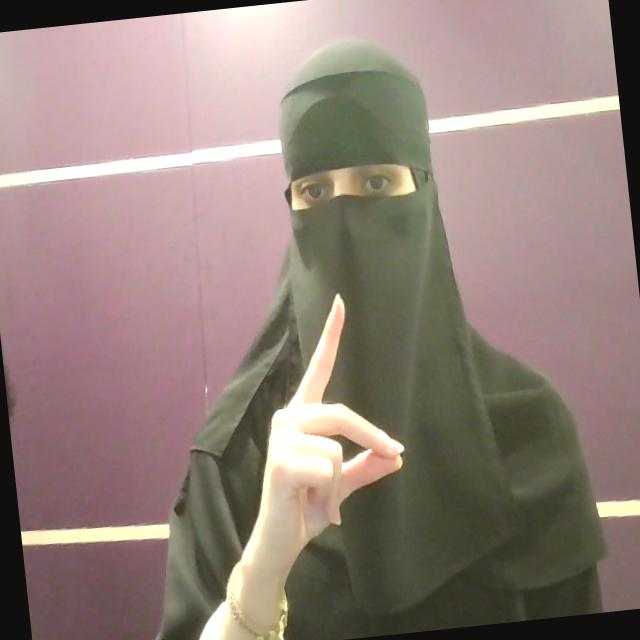emergency: (218, 284, 416, 578)
